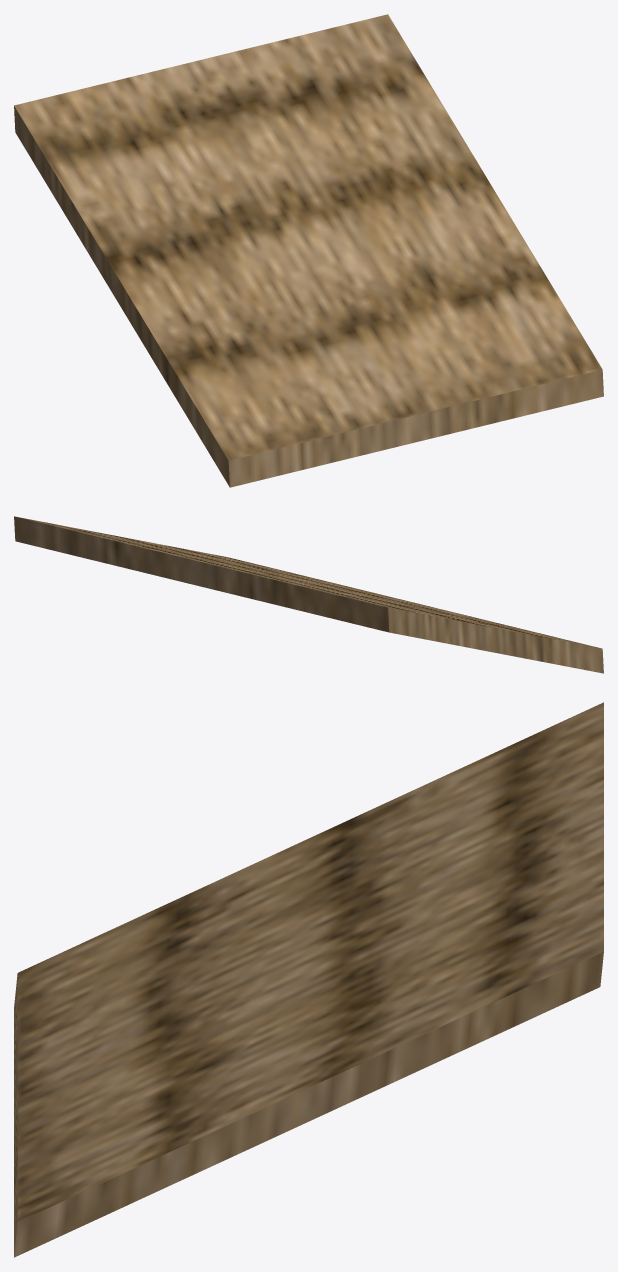
Rendered from roof 3.glb.
The picture shows the model from 3 angles, top to bottom: view 1: azimuth 30°, elevation 25°; view 2: azimuth 150°, elevation 25°; view 3: azimuth 270°, elevation 25°; orthographic projection. The views are drawn at different scales.
Visible parts, largest first — view 1: Plane.004; view 2: Plane.004; view 3: Plane.004.
Boxes of the visible parts, x1,y1,x2,y2 form: Plane.004: (14, 14, 603, 487); Plane.004: (14, 516, 603, 673); Plane.004: (14, 702, 603, 1257).
Bounding box in the file's own units: 1 × 0.5726 × 1.
Materials: 1 (1 with a texture image).
